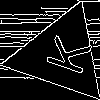K: (35, 30, 93, 77)
